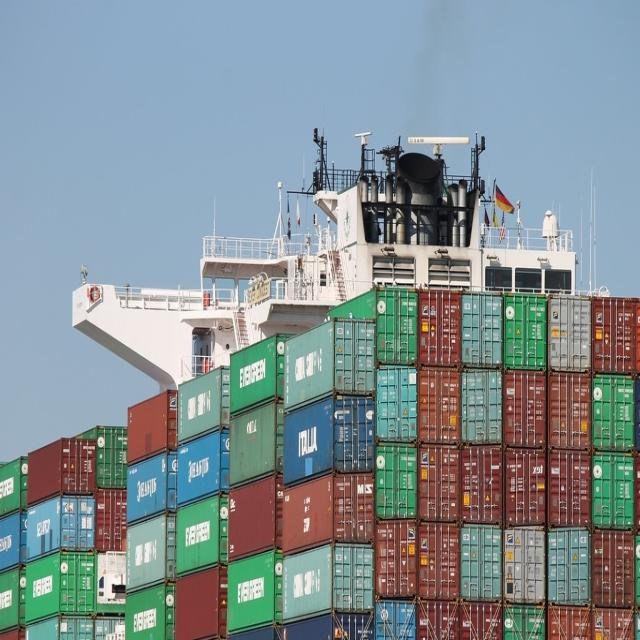container_door: (420, 445, 459, 527), (504, 294, 547, 367), (549, 527, 589, 602), (378, 519, 415, 599), (337, 322, 376, 397), (506, 455, 545, 528), (505, 372, 542, 447), (337, 398, 372, 475), (379, 369, 416, 441), (593, 303, 632, 371), (421, 296, 457, 369), (378, 289, 413, 363), (467, 371, 501, 447), (551, 300, 589, 367), (549, 455, 585, 525), (596, 379, 630, 452), (464, 296, 498, 365), (463, 455, 499, 520), (419, 373, 454, 439), (336, 477, 372, 540), (422, 534, 455, 598)
